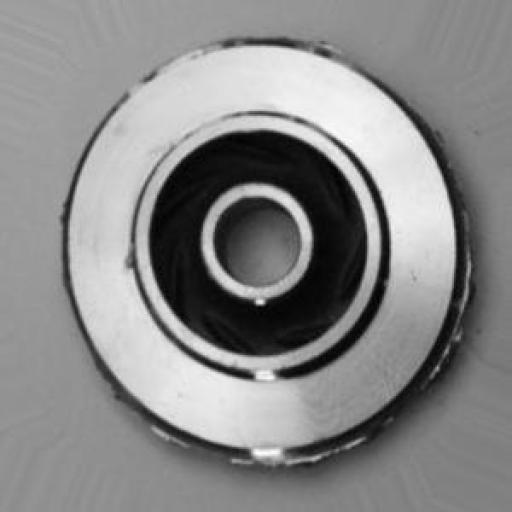defect: (37, 26, 493, 486)
